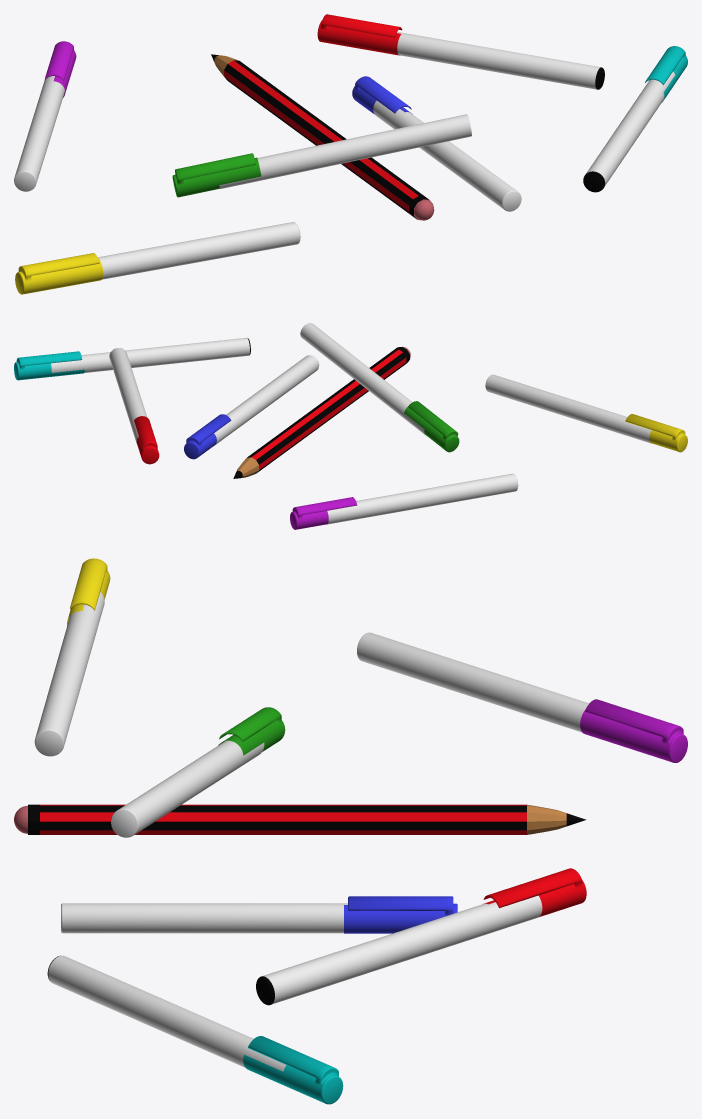
The model's file is ColoredPens.fbx.
3 views of the same model, one above another, from view 1: azimuth 30°, elevation 25°; view 2: azimuth 150°, elevation 25°; view 3: azimuth 270°, elevation 25° (orthographic). The views are drawn at different scales.
Visible parts, largest first — view 1: Circle.033, Circle.022, Circle.026, Sphere.003, Circle.020, Circle.032, Circle.023; view 2: Circle.023, Circle.032, Circle.026, Circle.033, Sphere.003, Circle.020, Circle.022; view 3: Sphere.003, Circle.020, Circle.023, Circle.022, Circle.032, Circle.033, Circle.026.
Boxes of the visible parts, x1,y1,x2,y2 form: Circle.033: (172, 114, 471, 197); Circle.022: (317, 14, 604, 89); Circle.026: (15, 222, 300, 294); Sphere.003: (211, 54, 434, 220); Circle.020: (352, 76, 521, 211); Circle.032: (583, 46, 687, 192); Circle.023: (14, 41, 76, 191); Circle.023: (290, 473, 518, 529); Circle.032: (14, 337, 250, 380); Circle.026: (485, 374, 687, 452); Circle.033: (300, 323, 459, 452); Sphere.003: (233, 346, 410, 478); Circle.020: (184, 355, 319, 459); Circle.022: (109, 348, 159, 464); Sphere.003: (14, 804, 586, 834); Circle.020: (61, 896, 457, 933); Circle.023: (357, 632, 687, 762); Circle.022: (256, 868, 586, 1005); Circle.032: (47, 955, 343, 1104); Circle.033: (111, 707, 285, 837); Circle.026: (34, 558, 110, 756).
Size of the model in its own units: 859 by 90.75 by 505.
